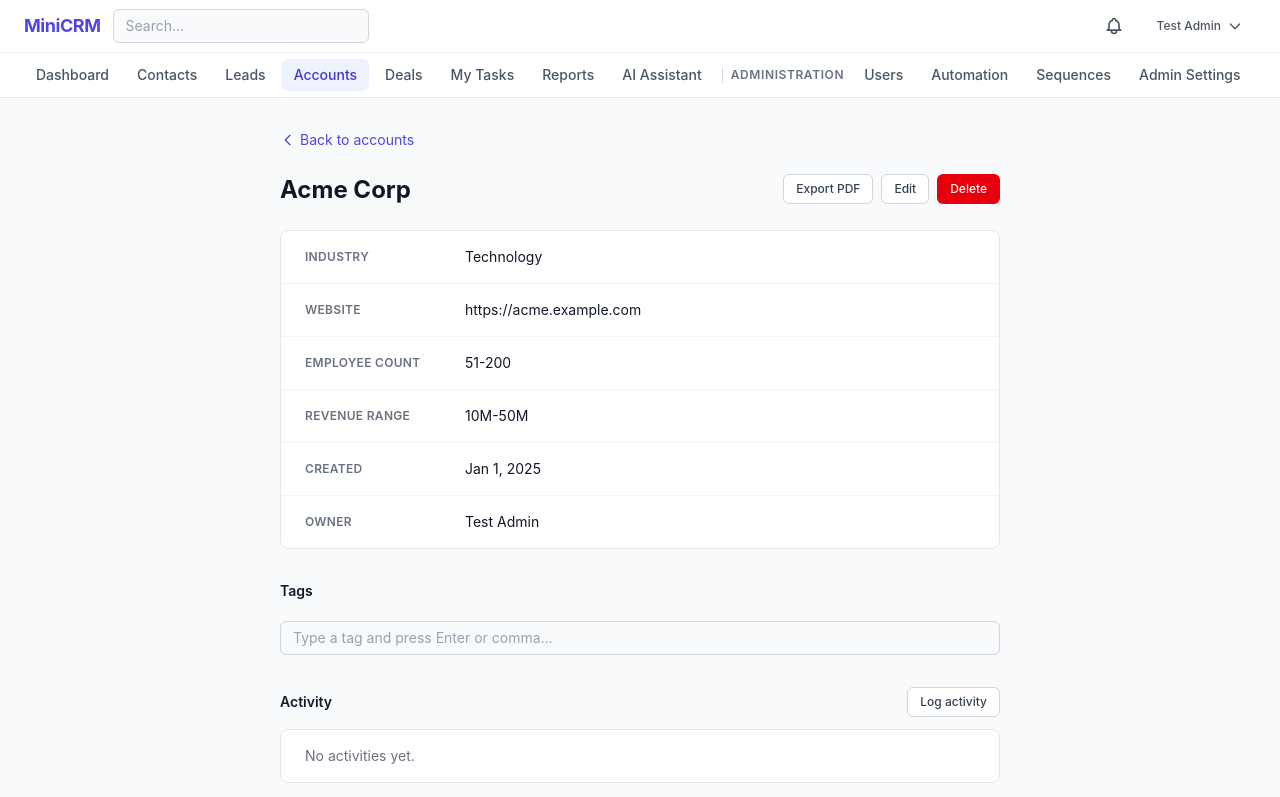
AccountDetailPage › shows the owner select in the edit form populated with active users
The width and height of the screenshot is (1280, 797).
Click the button with test id "edit-account-button" at (905, 189), box [881,174,929,204]
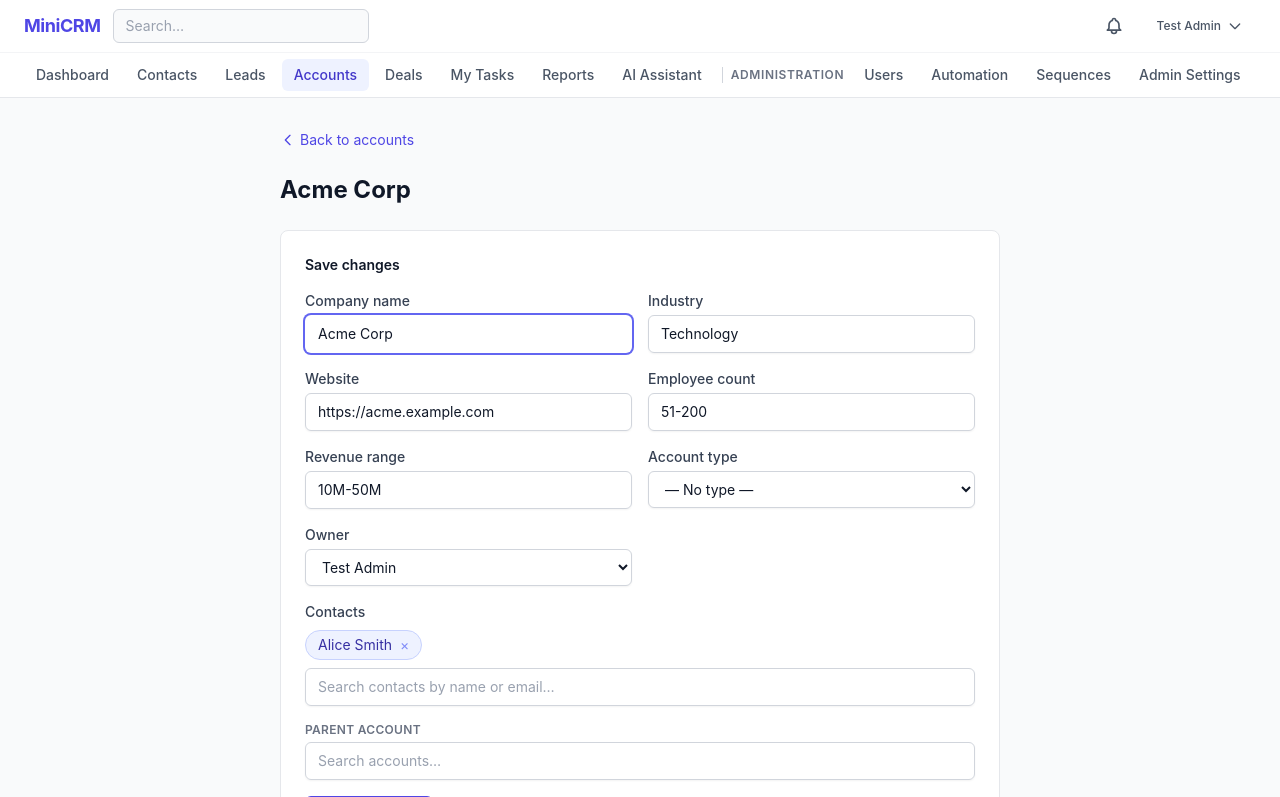
Check: the dropdown with test id "account-owner-select" shows "Test Admin", box [305,549,632,586]
